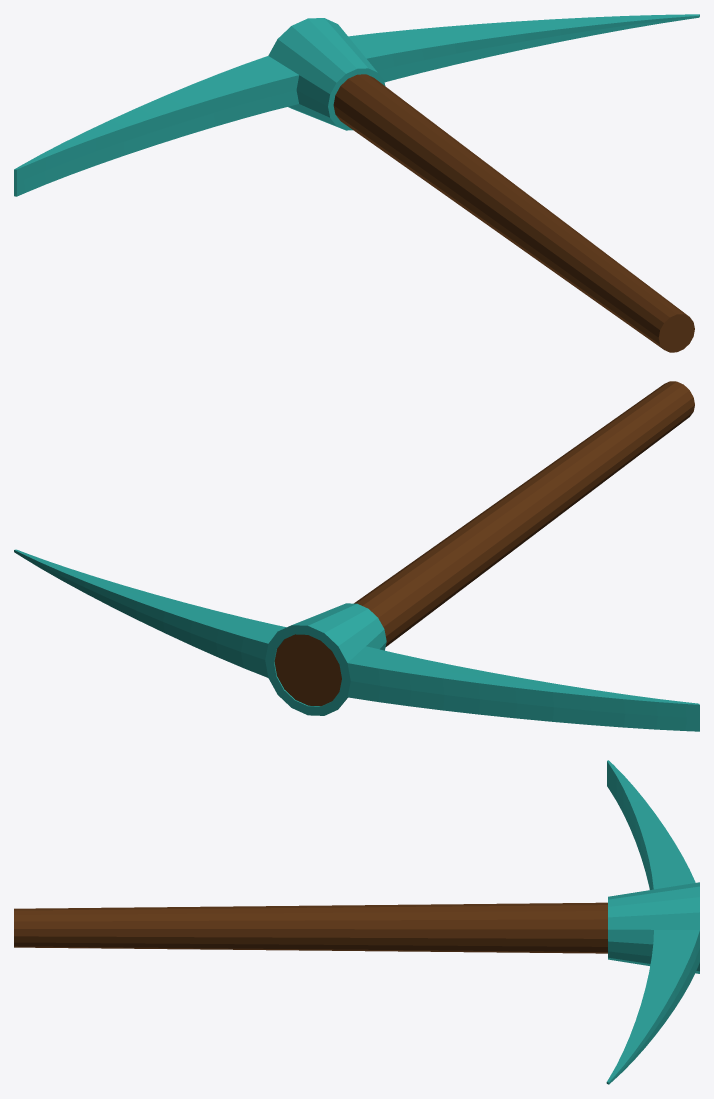
File: Diamond Pickaxe.fbx
3 views of the same model, one above another, from view 1: azimuth 30°, elevation 25°; view 2: azimuth 150°, elevation 25°; view 3: azimuth 270°, elevation 25° (orthographic). The views are drawn at different scales.
Parts seen in each view (by area): view 1: Cylinder, Cylinder.001; view 2: Cylinder, Cylinder.001; view 3: Cylinder.001, Cylinder.
Boxes of the visible parts, x1,y1,x2,y2 form: Cylinder: (14, 14, 699, 196); Cylinder.001: (333, 74, 694, 352); Cylinder: (14, 549, 699, 731); Cylinder.001: (274, 381, 694, 706); Cylinder.001: (14, 902, 607, 953); Cylinder: (606, 760, 699, 1084).
Size of the model in its own units: 1602 by 200 by 1493.
